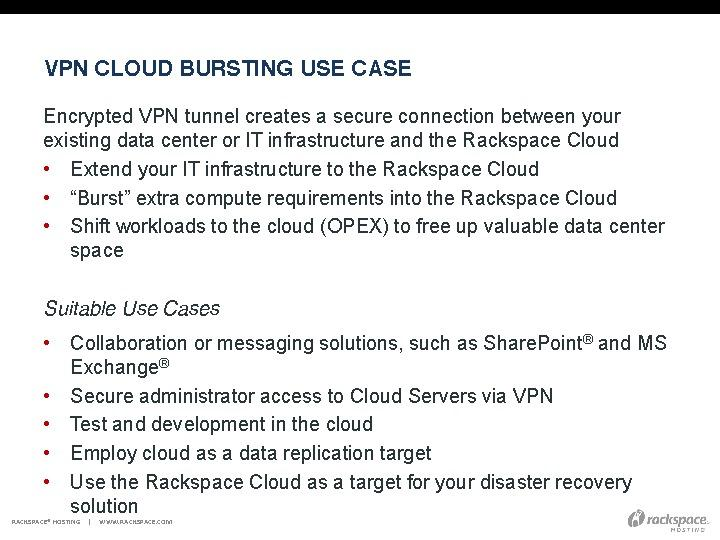paragraph: (32, 100, 680, 516)
title: (36, 50, 419, 92)
